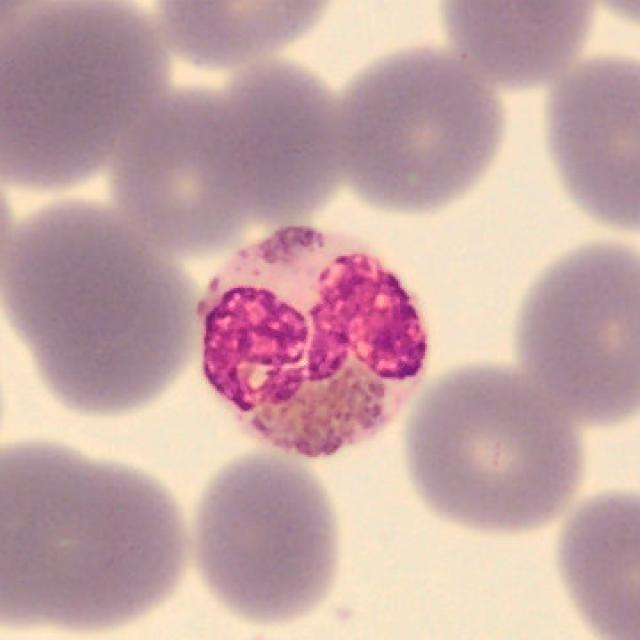Eosinofilo: (196, 228, 430, 459)
